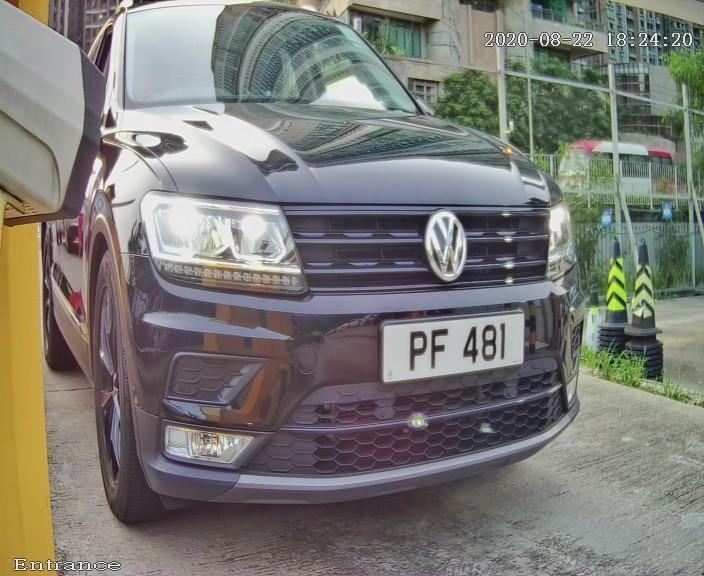Car: (19, 6, 626, 538)
License Plate: (378, 299, 529, 394)
